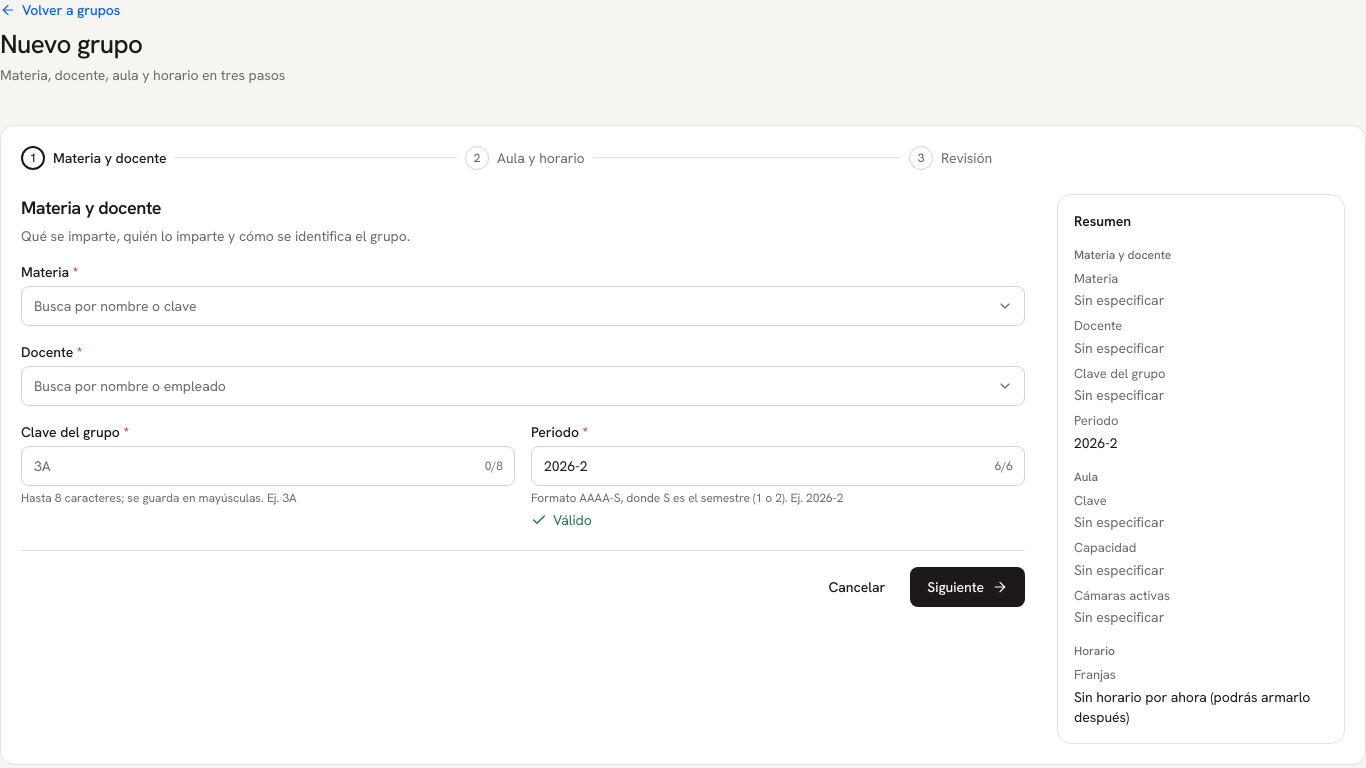
it: NuevoGrupo (asistente de 3 pasos) › con el paso incompleto no avanza y marca los campos
The image size is (1366, 768).
Expected: the heading "Materia y docente" is shown, [21,196,161,218]
Click the button "Siguiente" at (968, 586), box [910,566,1025,606]
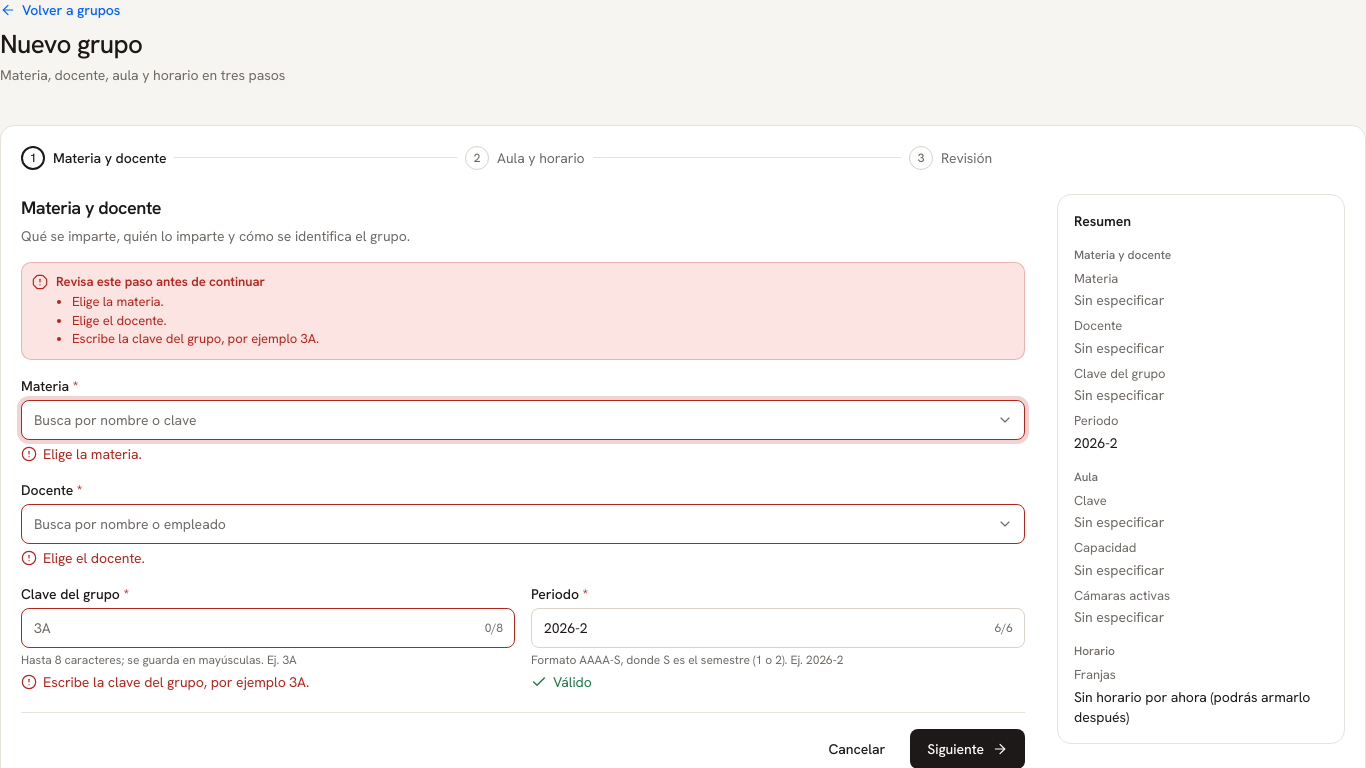
Expected: the list item "Elige la materia." is shown, [72,293,164,310]
Expected: the list item "Elige el docente." is shown, [72,312,167,329]
Expected: the list item "Escribe la clave del grupo, por ejemplo 3A." is shown, [72,330,319,347]
